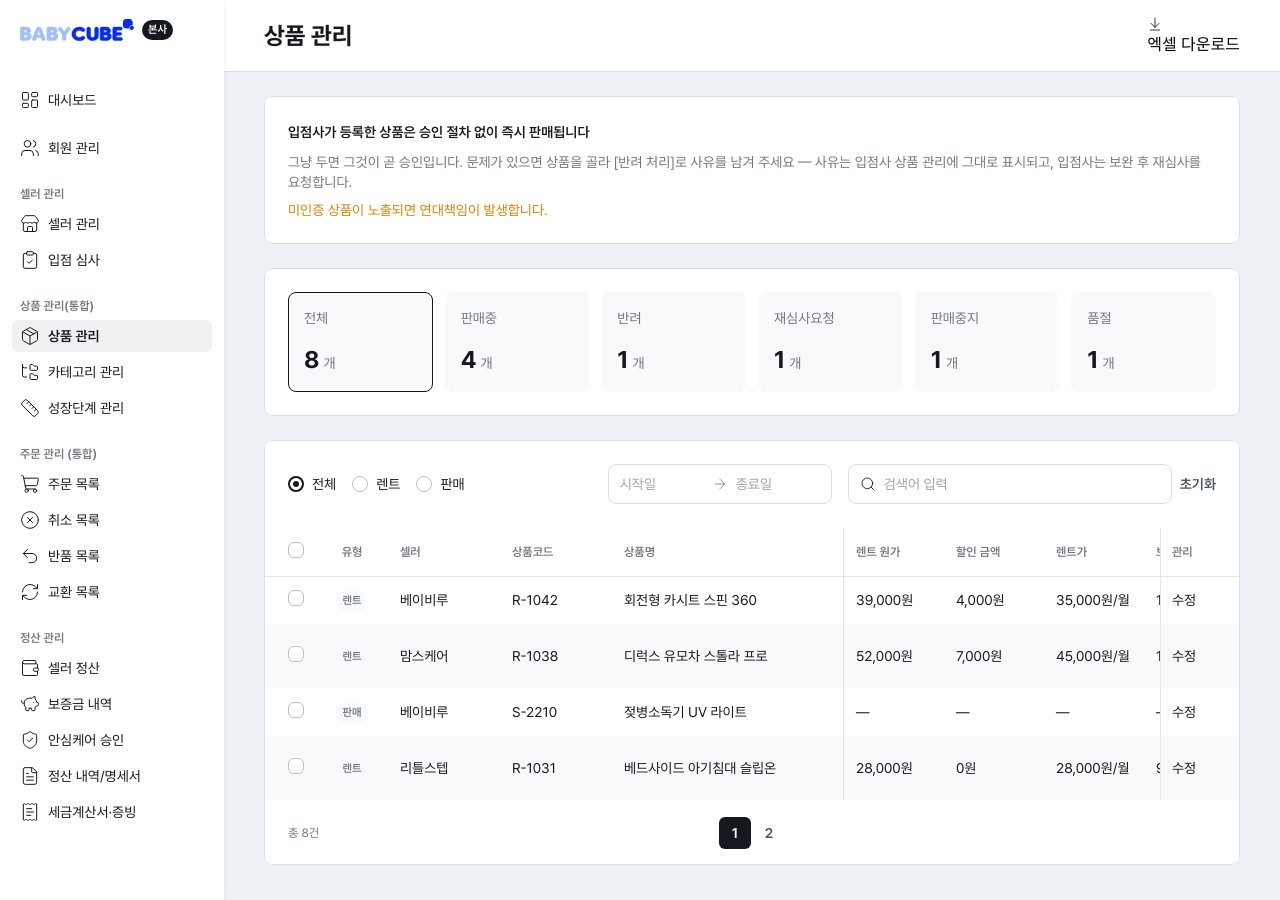
Test: ProductListPage › 유형·상태 필터 › 판매 상태를 '반려'로 좁히면 반려 건만 남는다
What coordinates should you click on to do the following:
click the button with aria-label "반려 1개"
I would click on:
 (674, 342)
Its box is [601,292,746,392].
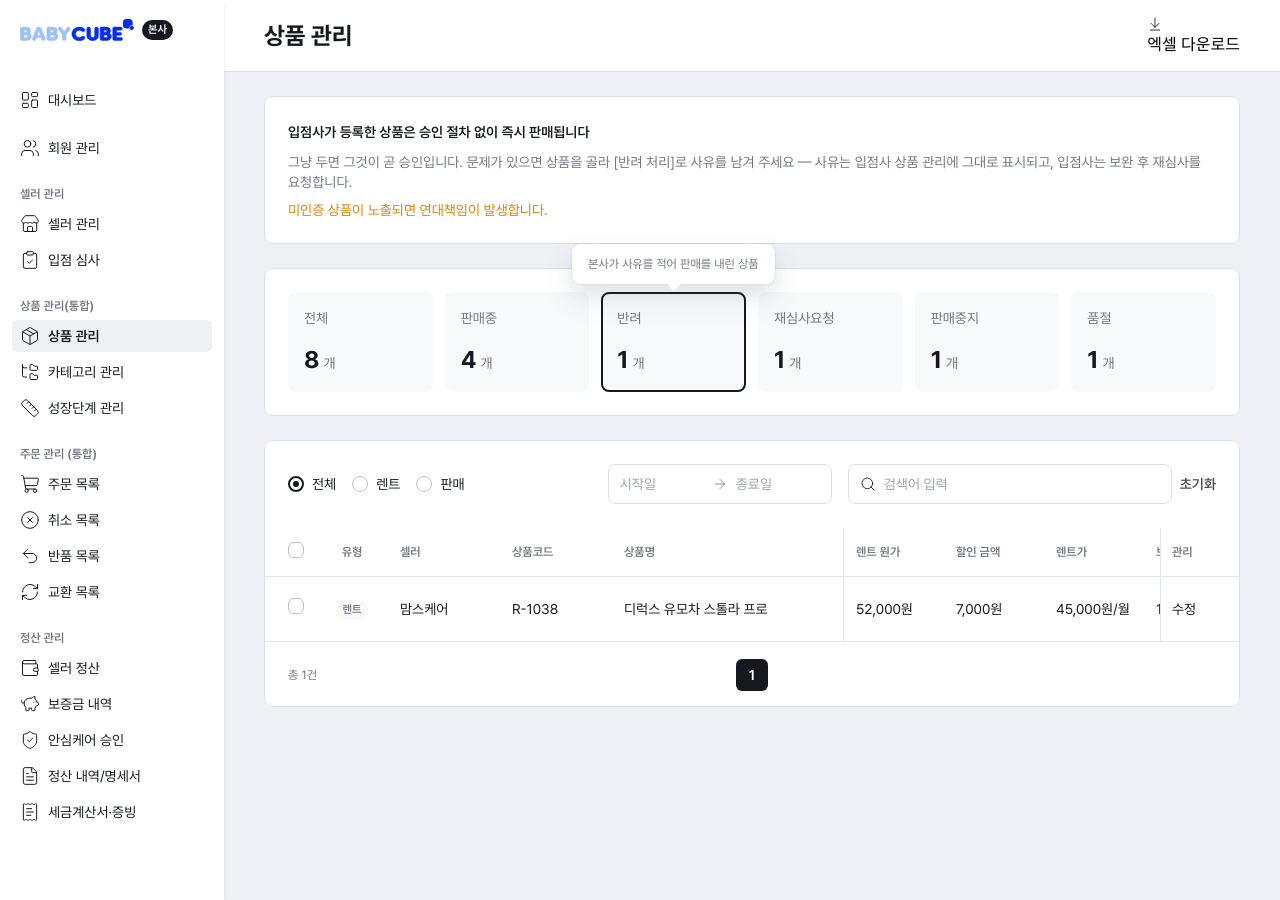
Now the text "총 1건" is shown, box [288,666,317,682]
